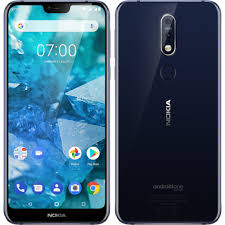nokia: (112, 1, 225, 225), (2, 1, 114, 225)
